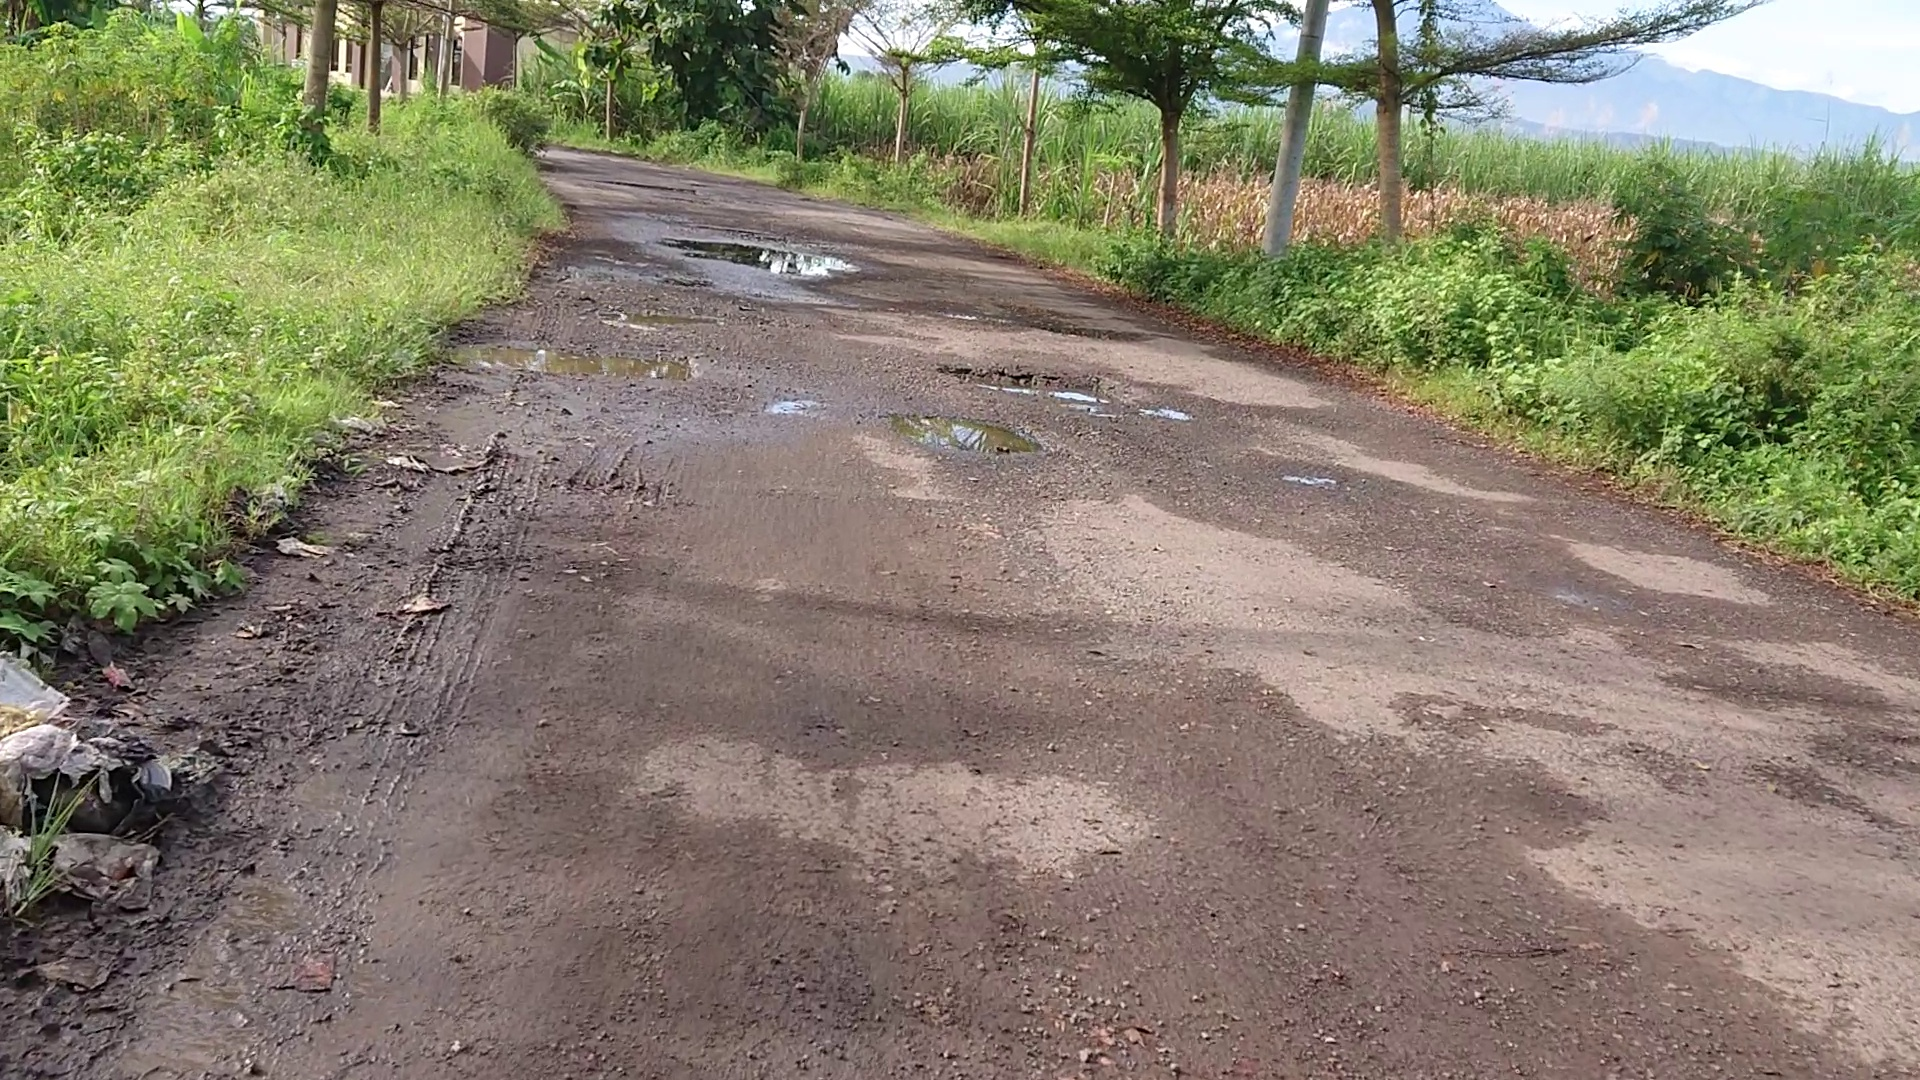Berlubang: (845, 371, 1211, 450), (676, 231, 881, 291), (936, 295, 1142, 345)
